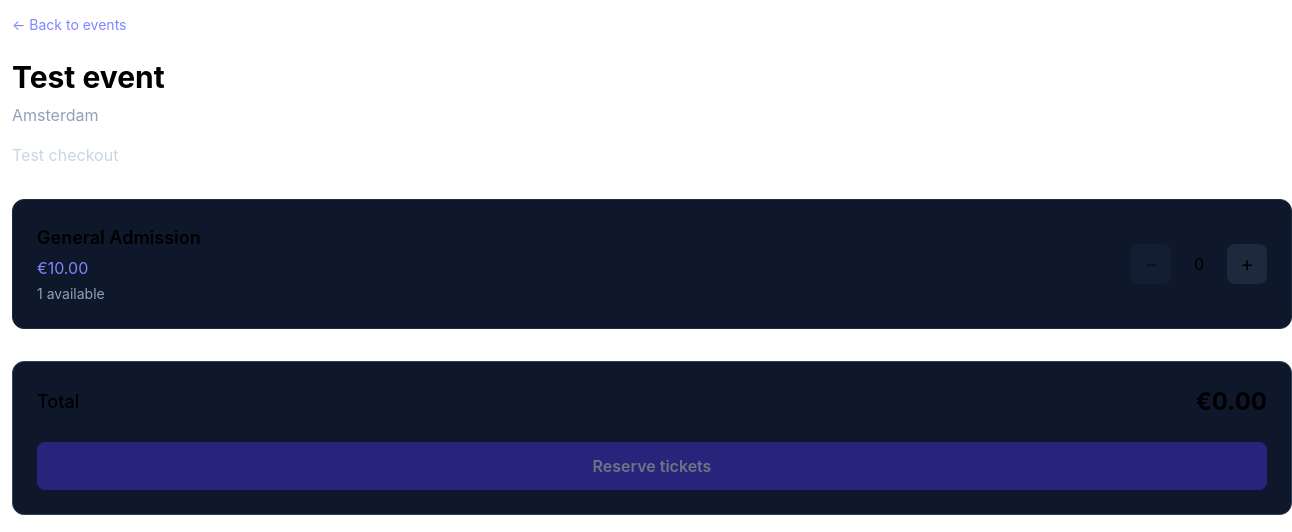
Checkout recovery › keeps loaded availability and selected quantities when a background refresh fails
Click the button "+": click(1247, 264) [1227,244,1267,284]
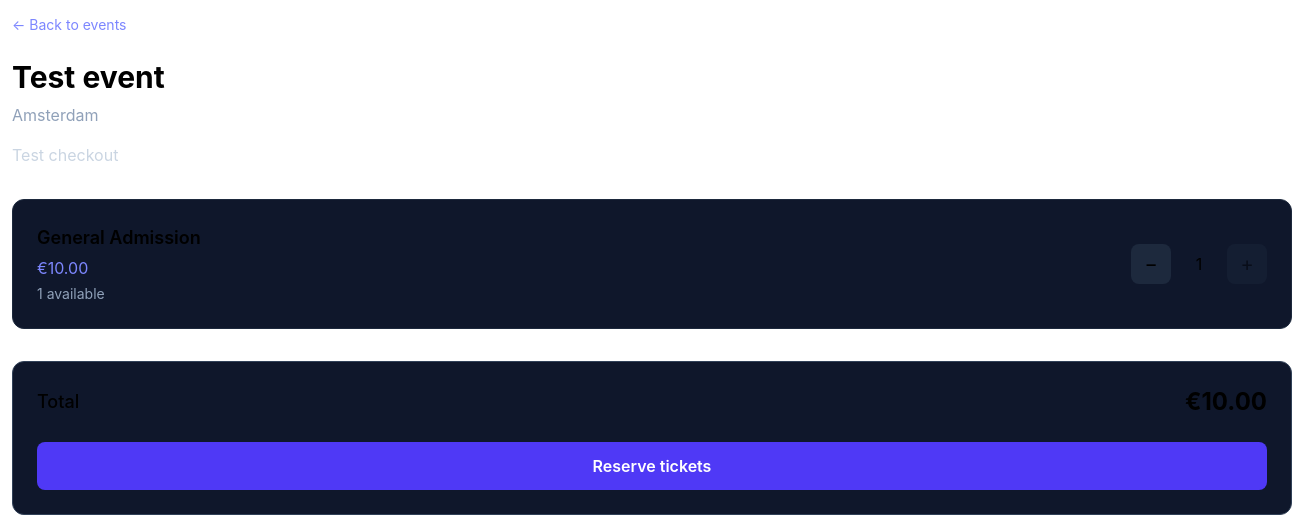
Expected: the text "1 available" is shown, [37,285,105,302]
Expected: the text named "General Admission quantity" reads "1", [1196,254,1202,274]
Expected: the button "Reserve tickets" is enabled, [37,442,1267,490]
